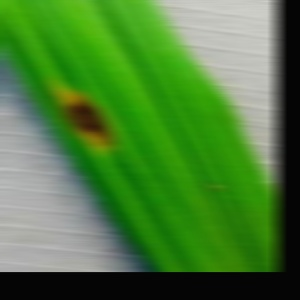Bacterial_Leaf_Blight: (49, 84, 123, 156)
